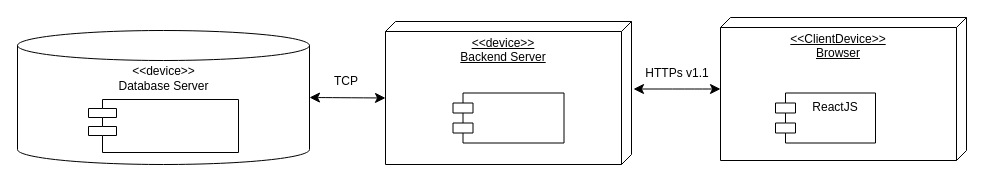
The diagram is 984 pixels wide and 182 high, and some of its shapes have lost their labels. Each missing label, with the centre of its shape:
"Express ORM Sequelize" belongs at point (508, 117).
"MySQL" belongs at point (163, 125).
